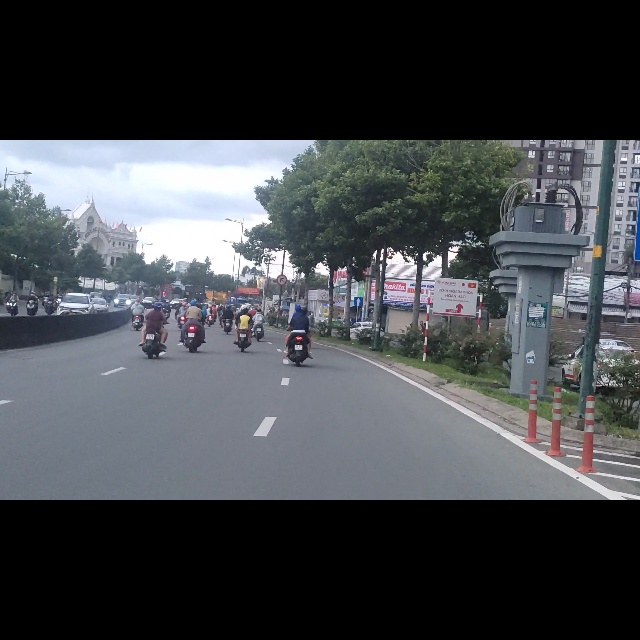bien_cam: (276, 239, 287, 258), (354, 277, 363, 296)
